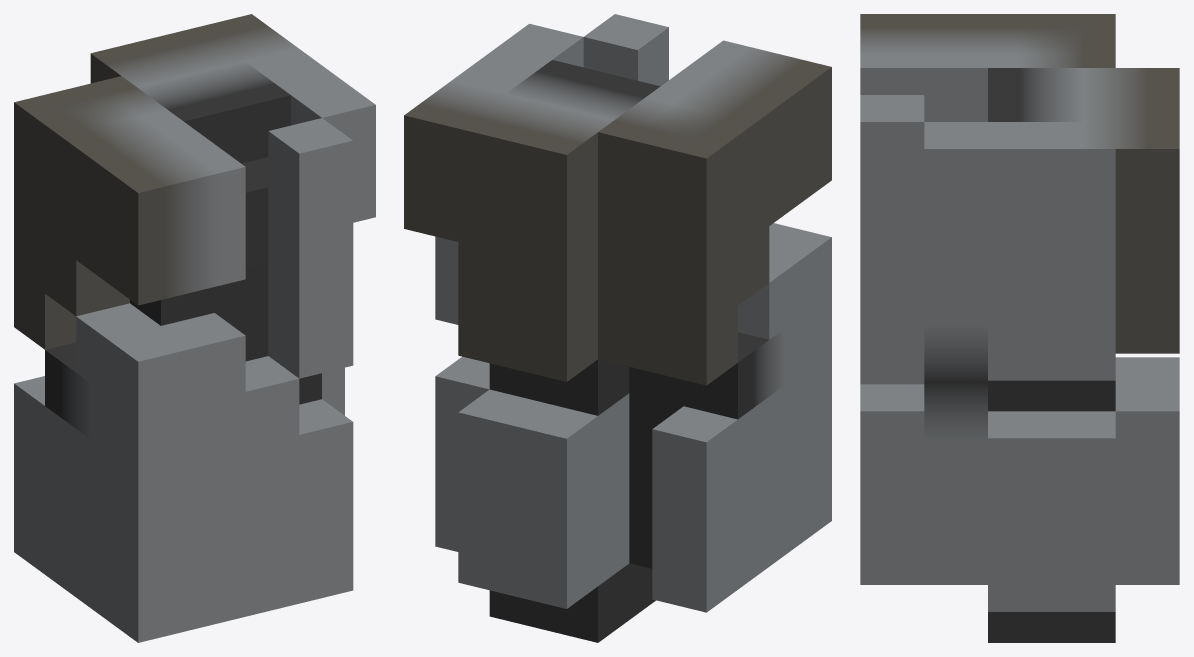
Rendered from Arm15.fbx.
3 views of the same model, side by side, from view 1: azimuth 30°, elevation 25°; view 2: azimuth 150°, elevation 25°; view 3: azimuth 270°, elevation 25° (orthographic). The views are drawn at different scales.
Parts seen in each view (by area): view 1: Arm15; view 2: Arm15; view 3: Arm15.
Boxes of the visible parts, x1=… form: Arm15: x1=14, y1=14, x2=375, y2=642; Arm15: x1=404, y1=14, x2=831, y2=642; Arm15: x1=860, y1=14, x2=1179, y2=642.
Bounding box in the file's own units: 25 × 45 × 25.
